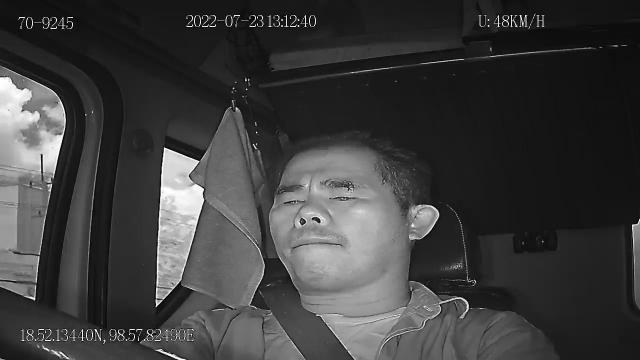SafeDriving: (322, 183, 366, 207), (274, 188, 310, 212)
Seatbelt: (255, 282, 358, 360)
